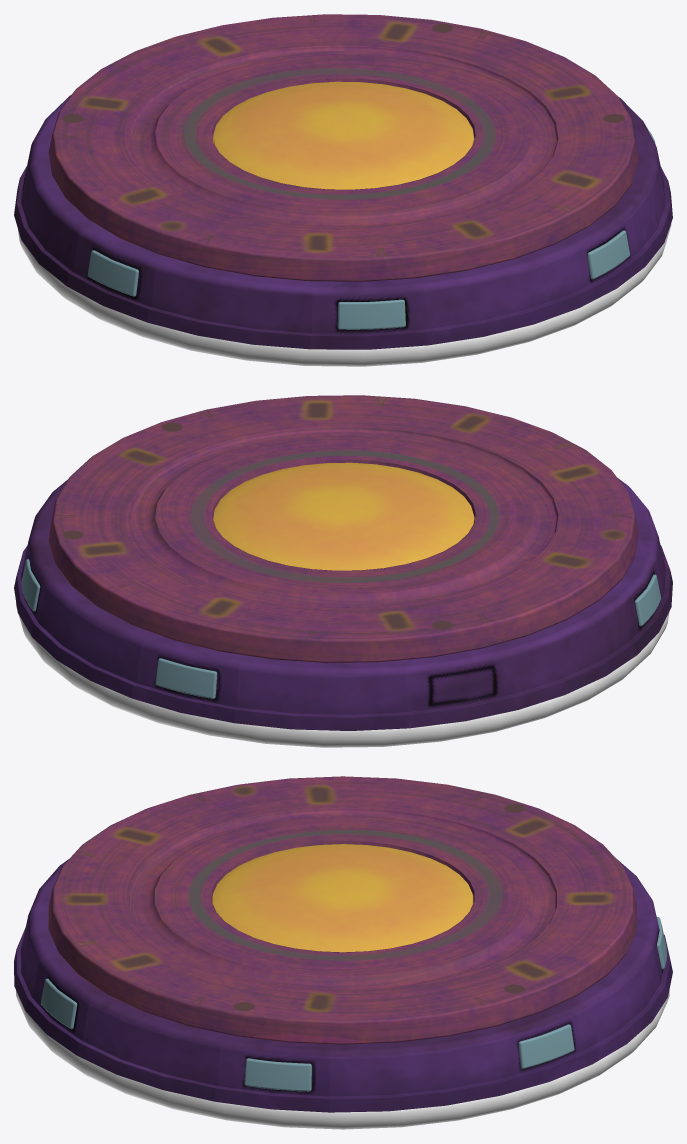
The model's file is Ship 1.fbx.
3 views of the same model, one above another, from view 1: azimuth 30°, elevation 25°; view 2: azimuth 150°, elevation 25°; view 3: azimuth 270°, elevation 25° (orthographic).
Parts seen in each view (by area): view 1: light_mesh, glow_light, BS_05, BS_06, BS_04, BS_07; view 2: light_mesh, glow_light, BS_03, BS_04, BS_02, BS_05, BS_01; view 3: light_mesh, glow_light, BS_01, BS_07, BS_02, BS_06.
Part boxes in pixels (box(x1,y1,x2,y2)): light_mesh: box(14, 14, 671, 366); glow_light: box(87, 81, 655, 329); BS_05: box(147, 257, 314, 349); BS_06: box(419, 244, 579, 345); BS_04: box(14, 162, 96, 285); BS_07: box(613, 141, 672, 265); light_mesh: box(14, 395, 671, 747); glow_light: box(21, 462, 661, 698); BS_03: box(234, 655, 408, 730); BS_04: box(499, 595, 637, 709); BS_02: box(32, 579, 154, 698); BS_05: box(623, 485, 672, 606); BS_01: box(16, 479, 67, 575); light_mesh: box(16, 776, 672, 1129); glow_light: box(40, 844, 666, 1091); BS_01: box(329, 1029, 500, 1112); BS_07: box(76, 993, 227, 1101); BS_02: box(565, 941, 667, 1063); BS_06: box(14, 886, 58, 1009).
Bounding box in the file's own units: 1501 × 330 × 1500.
